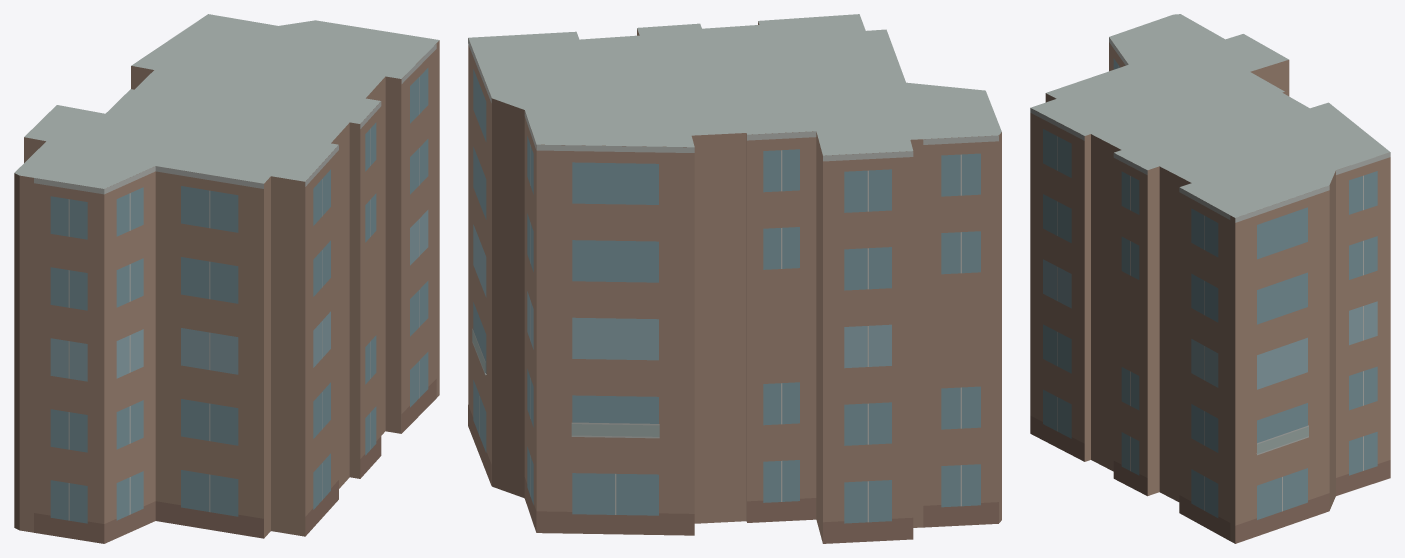
File: survey-upis-32959526.glb
The picture shows the model from 3 angles, left to right: view 1: azimuth 30°, elevation 25°; view 2: azimuth 150°, elevation 25°; view 3: azimuth 270°, elevation 25°; orthographic projection. The views are drawn at different scales.
Parts seen in each view (by area): view 1: survey-upis-32959526.tmp; view 2: survey-upis-32959526.tmp; view 3: survey-upis-32959526.tmp.
Part boxes in pixels (x1,y1,x2,y2): survey-upis-32959526.tmp: (14, 14, 439, 543); survey-upis-32959526.tmp: (468, 14, 1001, 543); survey-upis-32959526.tmp: (1030, 14, 1390, 543).
Bounding box in the file's own units: 21.62 × 16.1 × 16.14.
